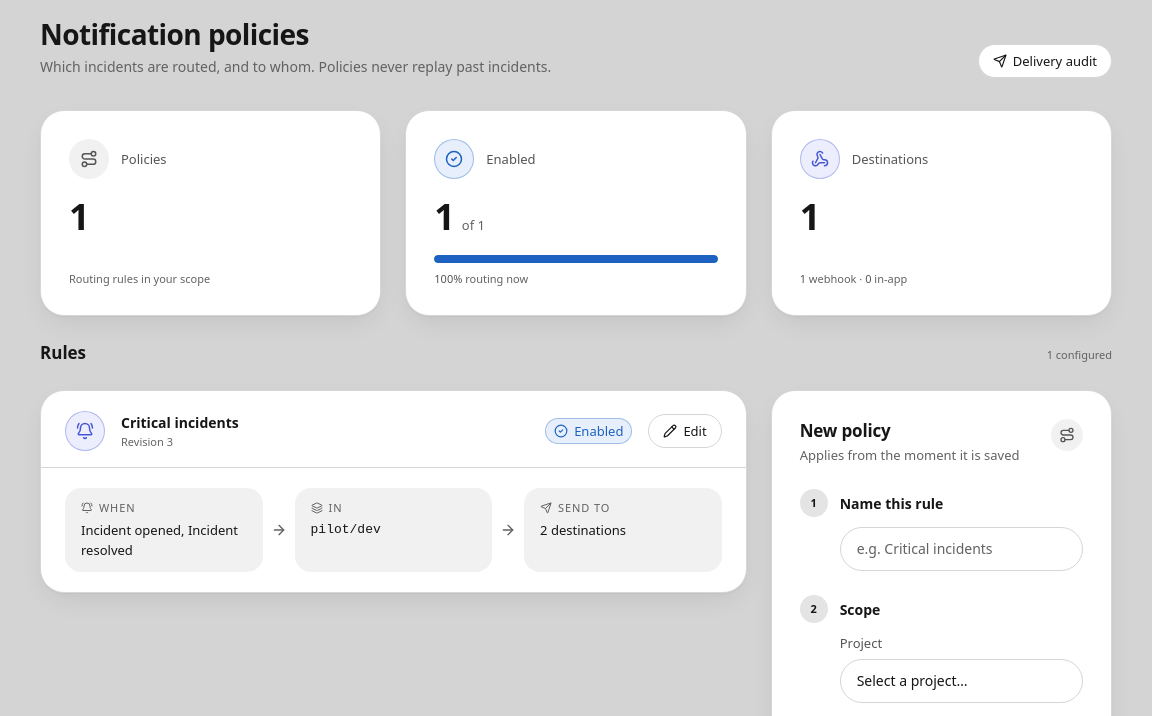
notification policies › clears the environment when the project changes
Select "Pilot" in the dropdown labelled "Project" at (961, 680), box [840,658,1083,702]
(page scrolled)
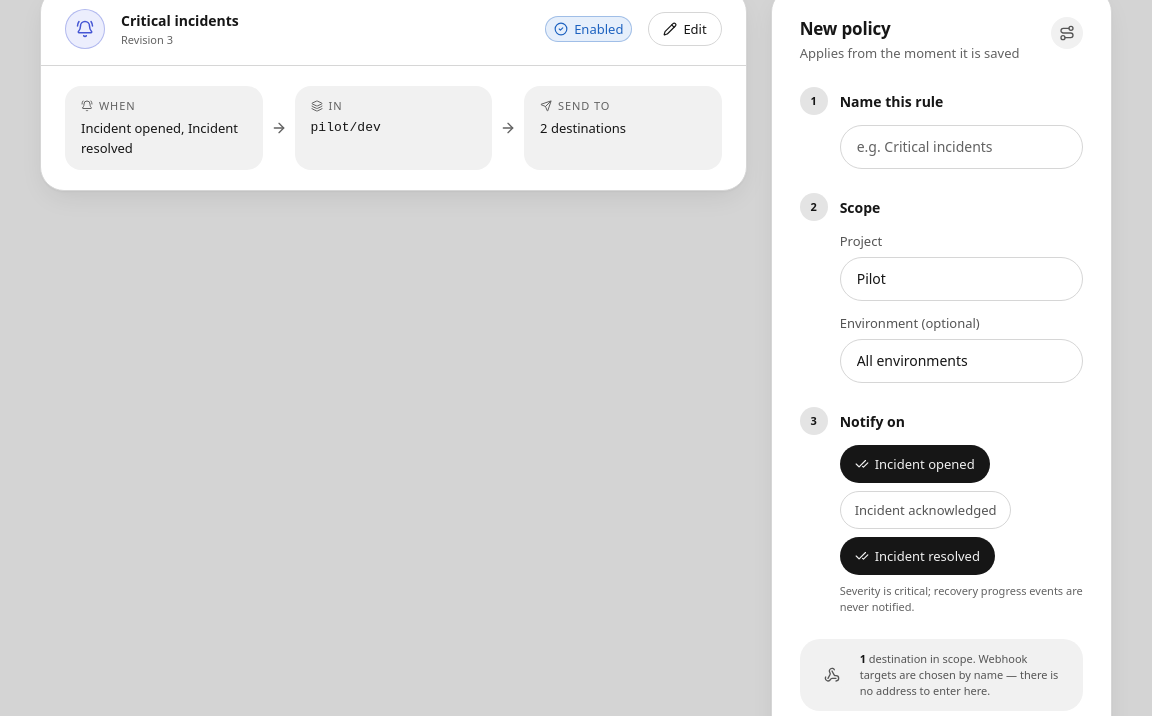
expect the dropdown labelled "Environment (optional)" is enabled: met
Select "dev" in the dropdown labelled "Environment (optional)" at (961, 360), box [840,338,1083,382]
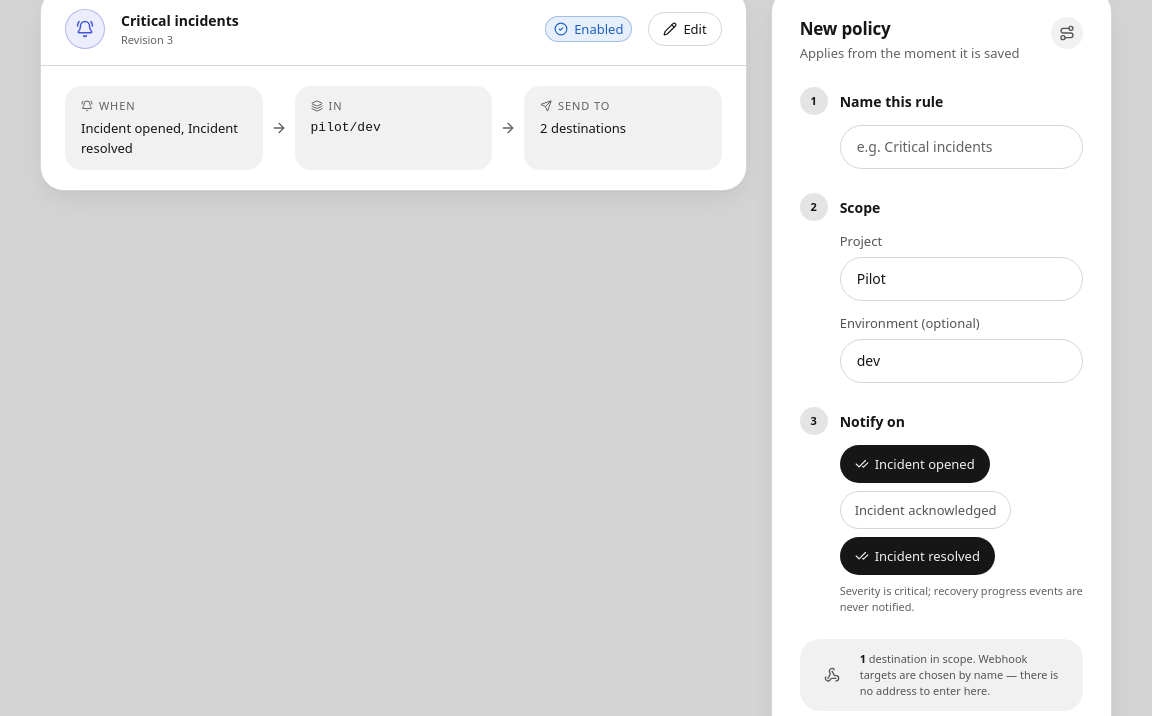
Select "Select a project…" in the dropdown labelled "Project" at (961, 278), box [840,256,1083,300]
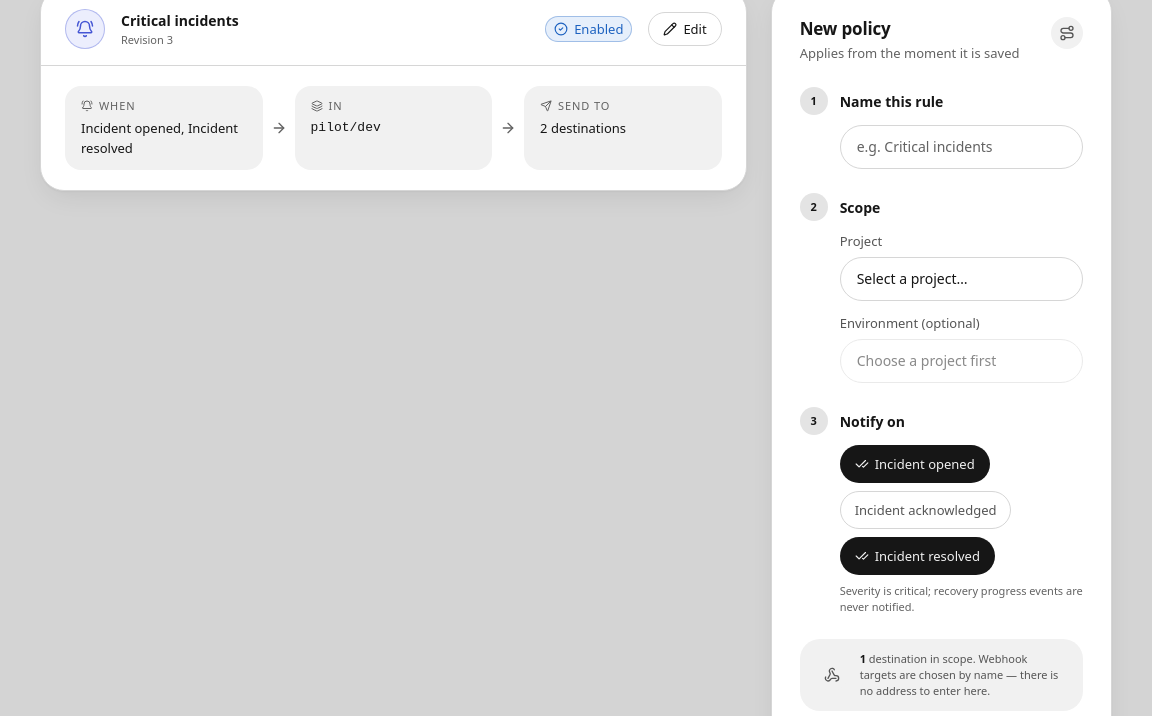
expect the dropdown labelled "Environment (optional)" is disabled: met, box [840,338,1083,382]
